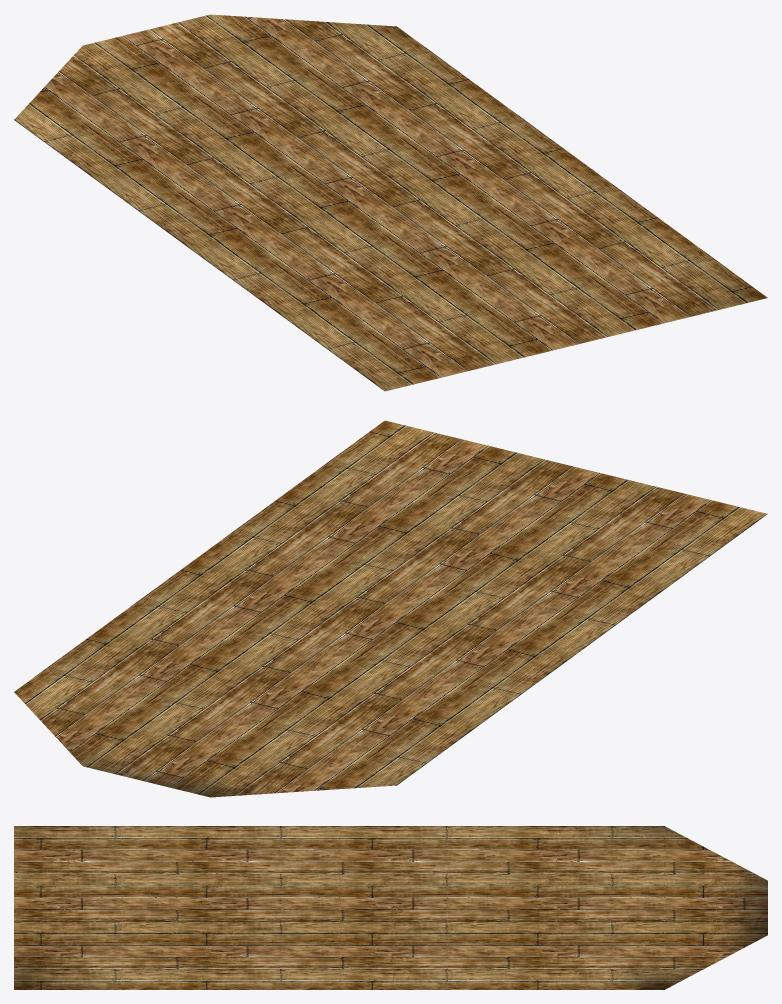
The model's file is LAKETOWN_PUB_PS_PUB_FLOOR83837.fbx.
3 views of the same model, one above another, from view 1: azimuth 30°, elevation 25°; view 2: azimuth 150°, elevation 25°; view 3: azimuth 270°, elevation 25° (orthographic). The views are drawn at different scales.
Visible parts, largest first — view 1: LAKETOWN_PUB_PS_PUB_FLOOR83837; view 2: LAKETOWN_PUB_PS_PUB_FLOOR83837; view 3: LAKETOWN_PUB_PS_PUB_FLOOR83837.
Boxes of the visible parts, left/top/right/bottom form: LAKETOWN_PUB_PS_PUB_FLOOR83837: left=14, top=14, right=767, bottom=391; LAKETOWN_PUB_PS_PUB_FLOOR83837: left=14, top=420, right=767, bottom=797; LAKETOWN_PUB_PS_PUB_FLOOR83837: left=14, top=826, right=767, bottom=989.
Size of the model in its own units: 51185 by 0.0162 by 99521.
Materials: 1 (1 with a texture image).
